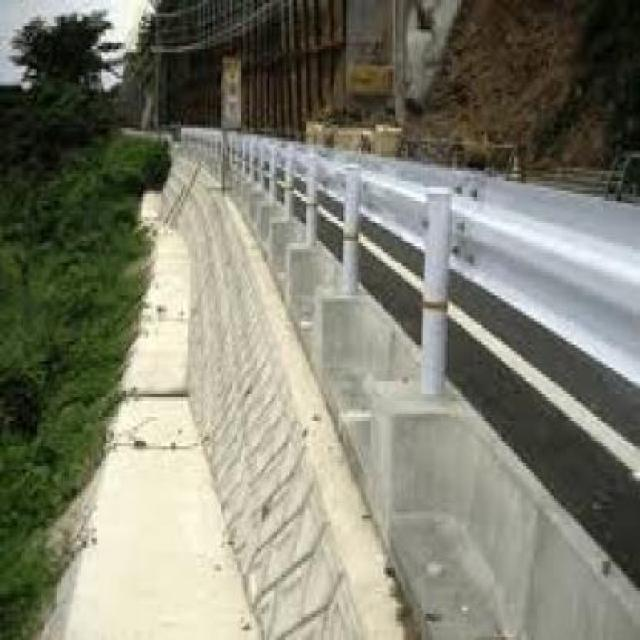Guard rail: (175, 120, 640, 406)
